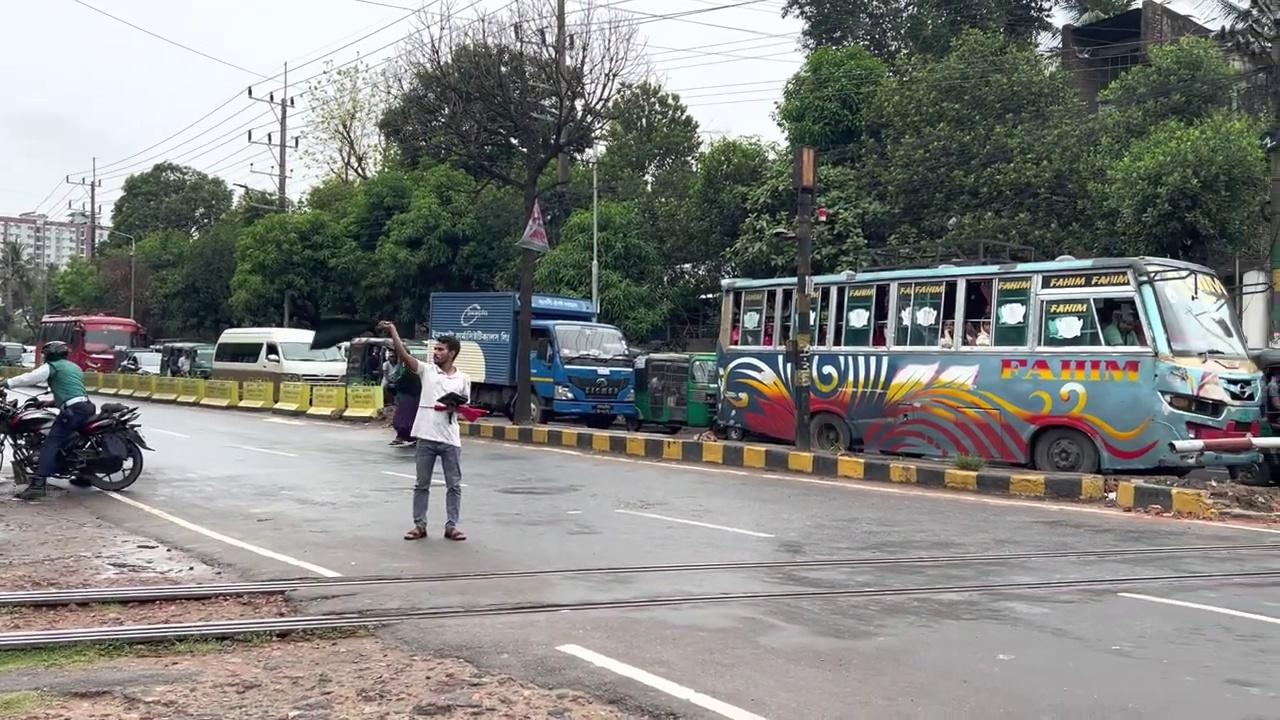Curb: (0, 379, 155, 496)
Fence: (376, 320, 471, 541), (0, 339, 94, 499)
Garbage: (510, 198, 549, 425), (791, 144, 817, 451), (589, 160, 599, 316)
Motorcycle: (1, 539, 1278, 649)
Rickshaw: (711, 253, 1266, 476), (427, 290, 639, 429), (33, 311, 149, 374)
